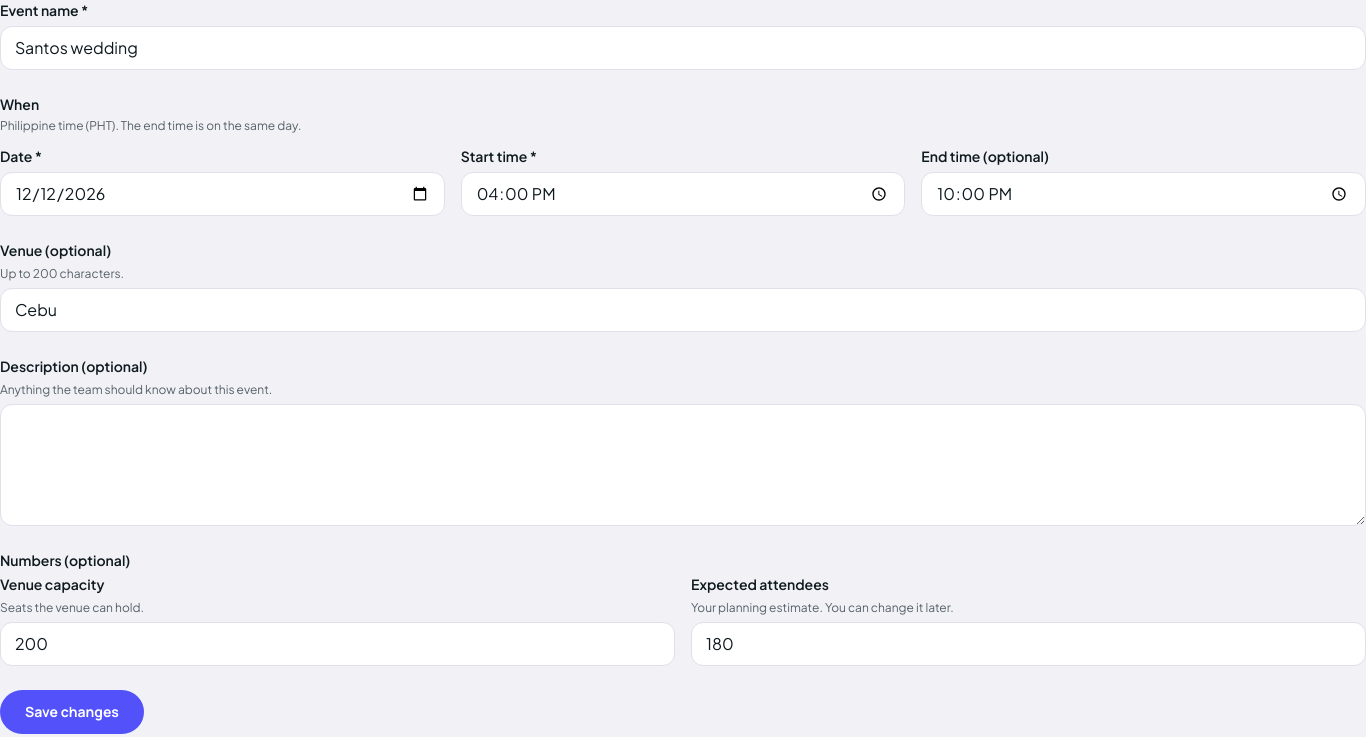
Test: EditEventForm › shows the saved values and sends changes with the loaded version
The width and height of the screenshot is (1366, 737).
Expected: the date field labelled "Date *" holds "2026-12-12", x1=0 y1=172 x2=445 y2=216
Expected: the time field labelled "Start time *" holds "16:00", x1=461 y1=172 x2=905 y2=216
Replace the text in the field labelled "Event name *" with "Santos–Lim wedding". click: (683, 48)
box: x1=0 y1=26 x2=1365 y2=70
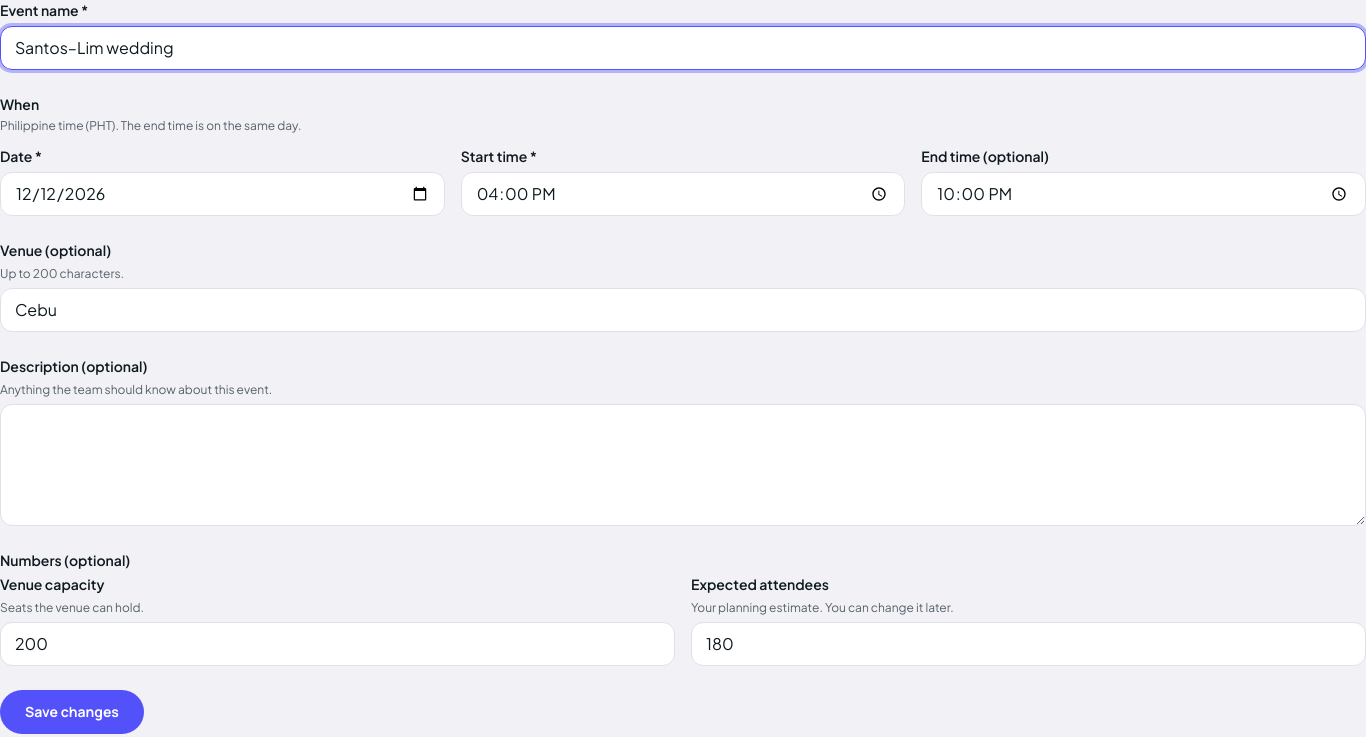
Click the button "Save changes". click: (72, 712)
box: x1=0 y1=690 x2=144 y2=734
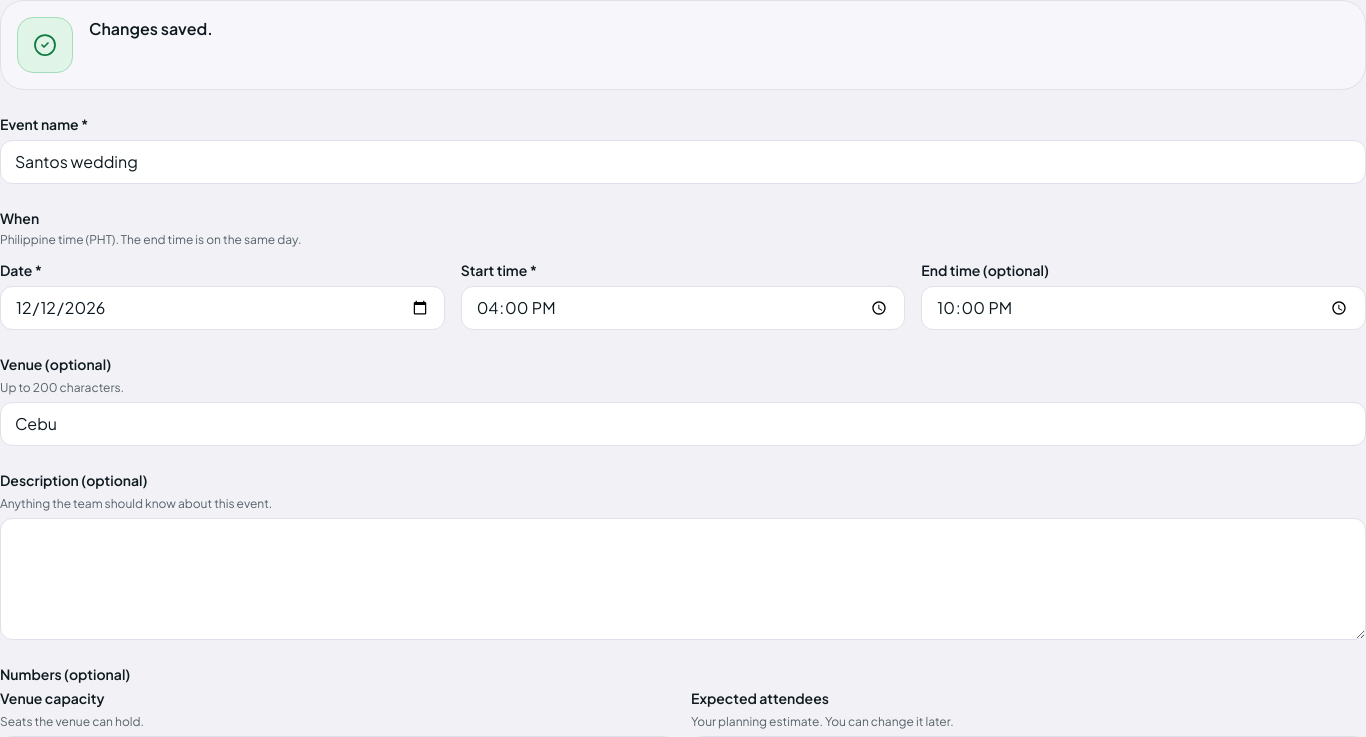
Result: the text "Changes saved." is shown at x1=88 y1=17 x2=213 y2=39
